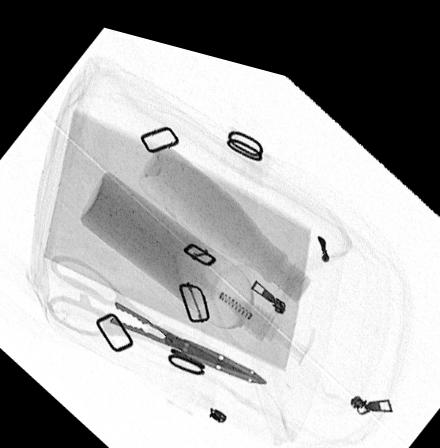Scissors: (45, 252, 267, 368)
